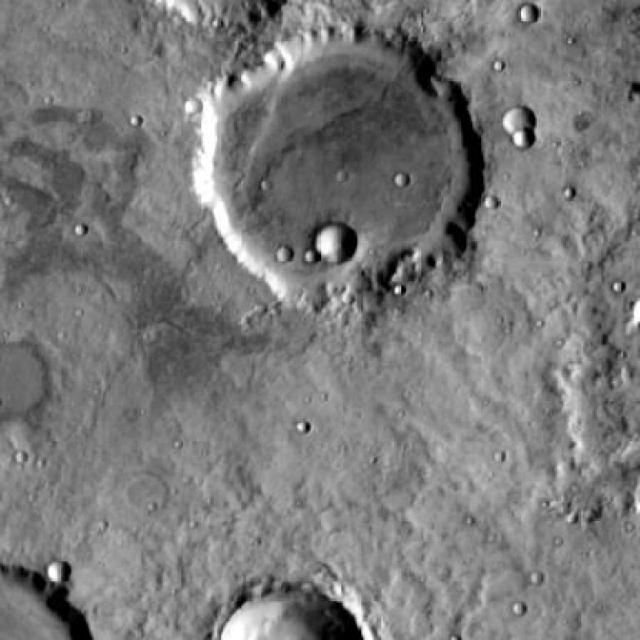crater: (194, 22, 481, 287), (220, 584, 365, 640), (124, 470, 170, 512), (316, 223, 359, 263), (504, 104, 538, 136), (614, 300, 640, 326), (44, 556, 70, 581), (515, 130, 534, 147), (275, 245, 294, 262), (519, 4, 536, 21), (168, 96, 186, 112), (537, 264, 554, 279), (394, 174, 411, 189)
